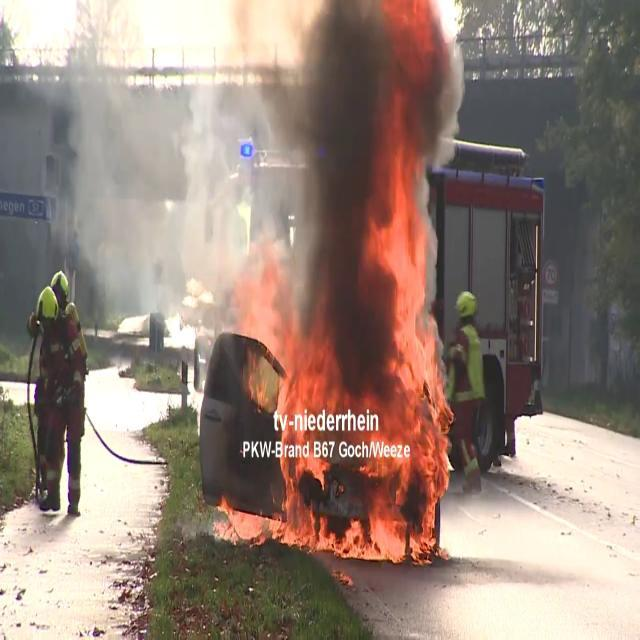Fire: (212, 279, 386, 547), (372, 150, 456, 562)
Smoke: (270, 0, 466, 379), (2, 14, 246, 294)
